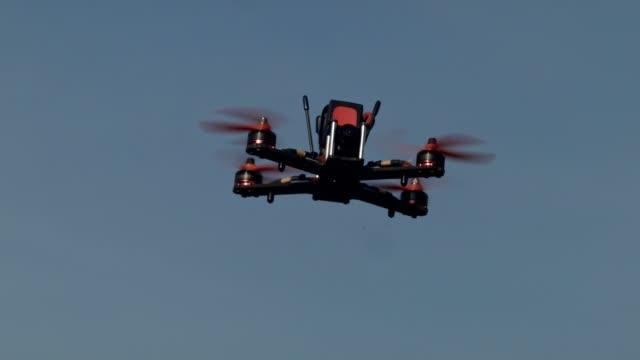drone: (194, 83, 500, 233)
